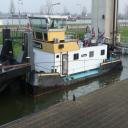tugboat: (2, 14, 125, 101)
